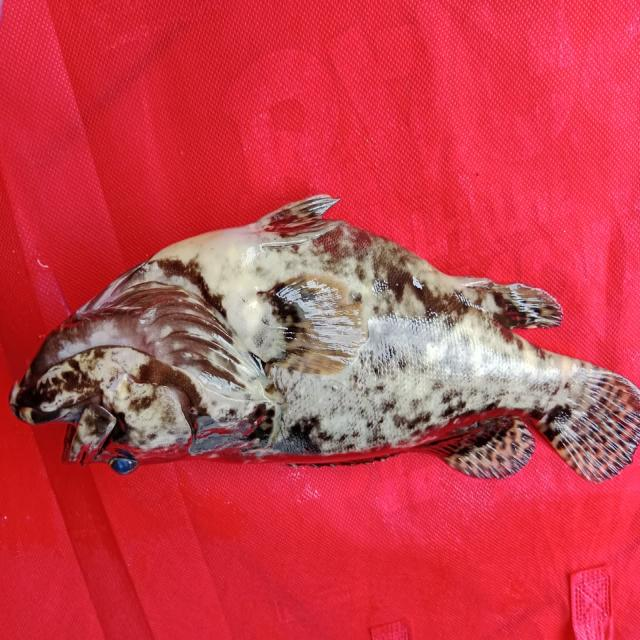ikan: (12, 187, 632, 500)
